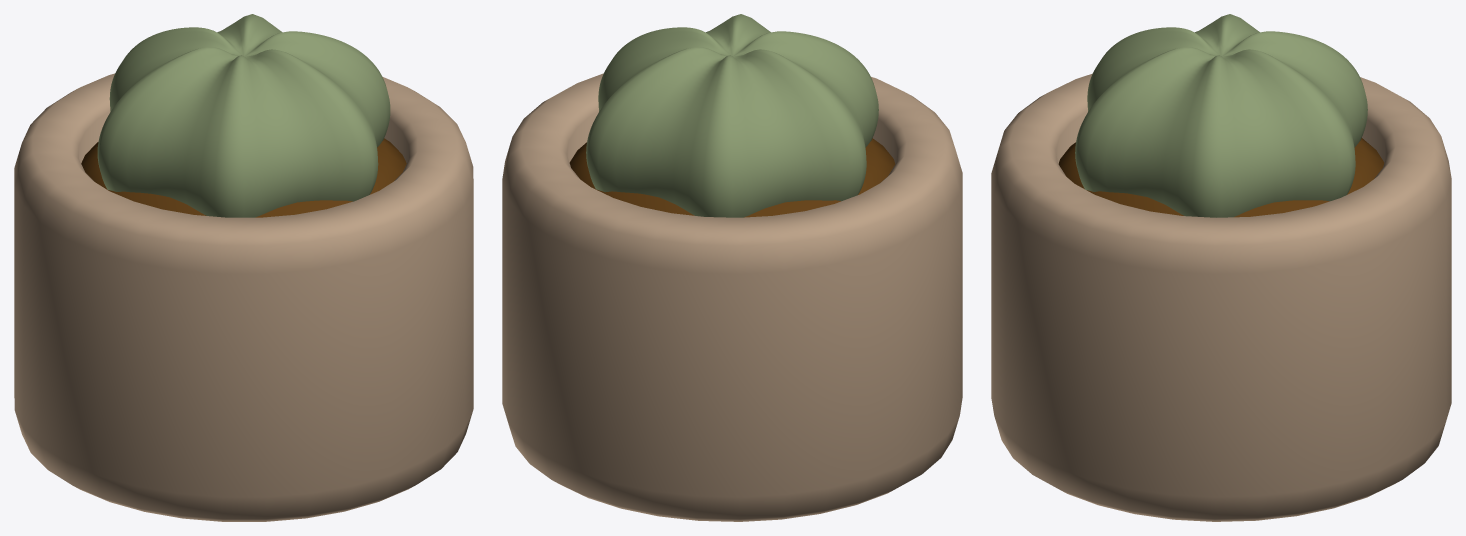
The model's file is plantpot2.fbx.
3 renders of one model, left to right at view 1: azimuth 30°, elevation 25°; view 2: azimuth 150°, elevation 25°; view 3: azimuth 270°, elevation 25°, orthographic.
Visible parts, largest first — view 1: Small_Plant_Pot_02, Small_Plant_Pot_02_Plant, Small_Plant_Pot_02_Soil; view 2: Small_Plant_Pot_02, Small_Plant_Pot_02_Plant, Small_Plant_Pot_02_Soil; view 3: Small_Plant_Pot_02, Small_Plant_Pot_02_Plant, Small_Plant_Pot_02_Soil.
Part boxes in pixels (x1=…): Small_Plant_Pot_02: x1=14, y1=73, x2=473, y2=521; Small_Plant_Pot_02_Plant: x1=97, y1=14, x2=390, y2=217; Small_Plant_Pot_02_Soil: x1=81, y1=138, x2=406, y2=217; Small_Plant_Pot_02: x1=502, y1=73, x2=962, y2=521; Small_Plant_Pot_02_Plant: x1=586, y1=14, x2=878, y2=217; Small_Plant_Pot_02_Soil: x1=569, y1=138, x2=895, y2=217; Small_Plant_Pot_02: x1=991, y1=73, x2=1451, y2=521; Small_Plant_Pot_02_Plant: x1=1075, y1=14, x2=1367, y2=217; Small_Plant_Pot_02_Soil: x1=1058, y1=138, x2=1384, y2=217.
Size of the model in its own units: 36.36 by 34.2 by 36.36.
